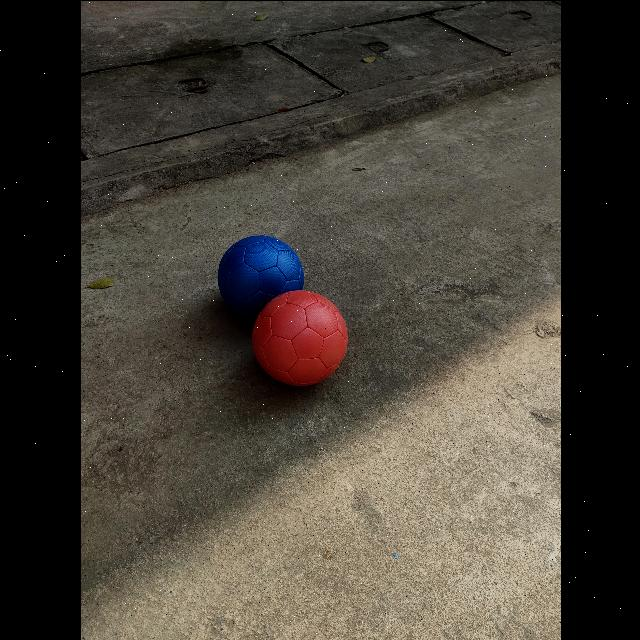B: (217, 234, 304, 319)
R: (252, 290, 347, 385)
